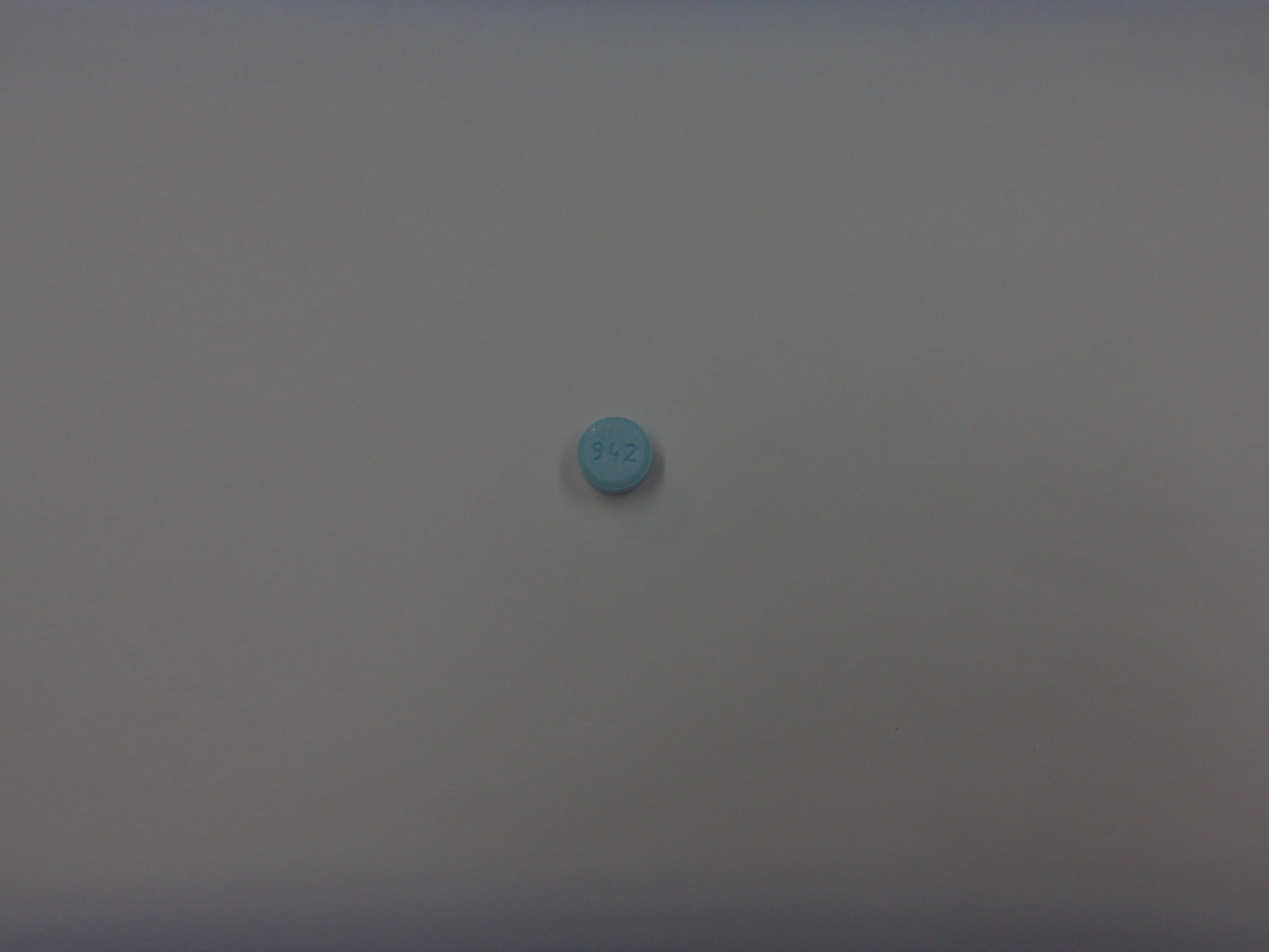Pill: (571, 411, 658, 501)
